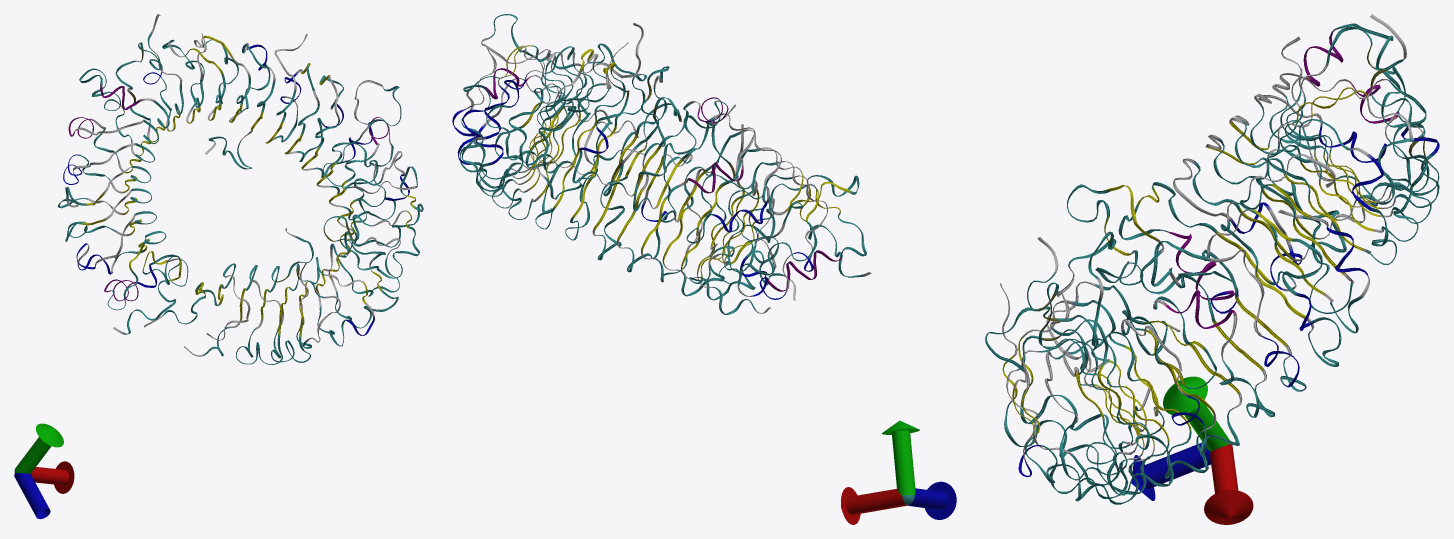
The model's file is 3wpf-3.obj.
The picture shows the model from 3 angles, left to right: view 1: azimuth 30°, elevation 25°; view 2: azimuth 150°, elevation 25°; view 3: azimuth 270°, elevation 25°; orthographic projection. The views are drawn at different scales.
Visible parts, largest first — view 1: vmd_mol0_rep0, vmd_axes; view 2: vmd_mol0_rep0, vmd_axes; view 3: vmd_mol0_rep0, vmd_axes.
Part boxes in pixels (bbox=[...]): vmd_mol0_rep0: bbox=[58, 14, 423, 364]; vmd_axes: bbox=[14, 423, 74, 519]; vmd_mol0_rep0: bbox=[452, 14, 871, 314]; vmd_axes: bbox=[841, 420, 956, 524]; vmd_mol0_rep0: bbox=[985, 14, 1439, 504]; vmd_axes: bbox=[1131, 376, 1253, 524].
Size of the model in its own units: 1.74 by 1.74 by 1.14.
